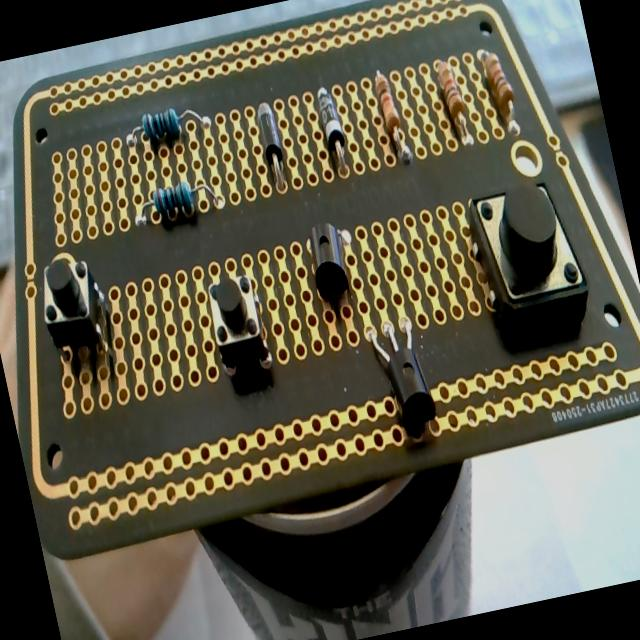diode: (314, 84, 354, 180), (253, 100, 292, 194)
resistor: (121, 98, 211, 153), (132, 174, 222, 228), (371, 68, 412, 166), (477, 44, 521, 134), (432, 54, 474, 148)
switch: (462, 172, 594, 340), (32, 252, 116, 362), (202, 266, 277, 380)
transistor: (364, 312, 441, 436), (302, 216, 362, 318)
